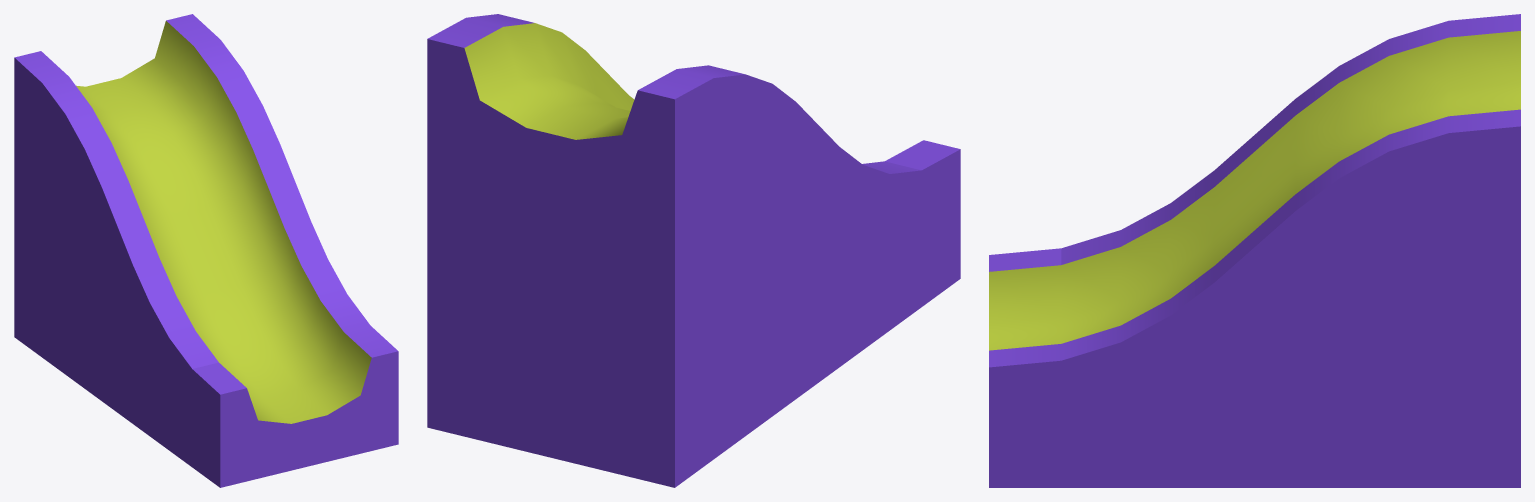
File: ramp_long_solid_C-col.dae
3 views of the same model, side by side, from view 1: azimuth 30°, elevation 25°; view 2: azimuth 150°, elevation 25°; view 3: azimuth 270°, elevation 25° (orthographic). The views are drawn at different scales.
Parts seen in each view (by area): view 1: ramp_long_solid_C-col; view 2: ramp_long_solid_C-col; view 3: ramp_long_solid_C-col.
Boxes of the visible parts, x1,y1,x2,y2 form: ramp_long_solid_C-col: [14, 14, 398, 487]; ramp_long_solid_C-col: [427, 14, 960, 487]; ramp_long_solid_C-col: [989, 14, 1520, 487].
Bounding box in the file's own units: 1 × 2 × 1.5.
